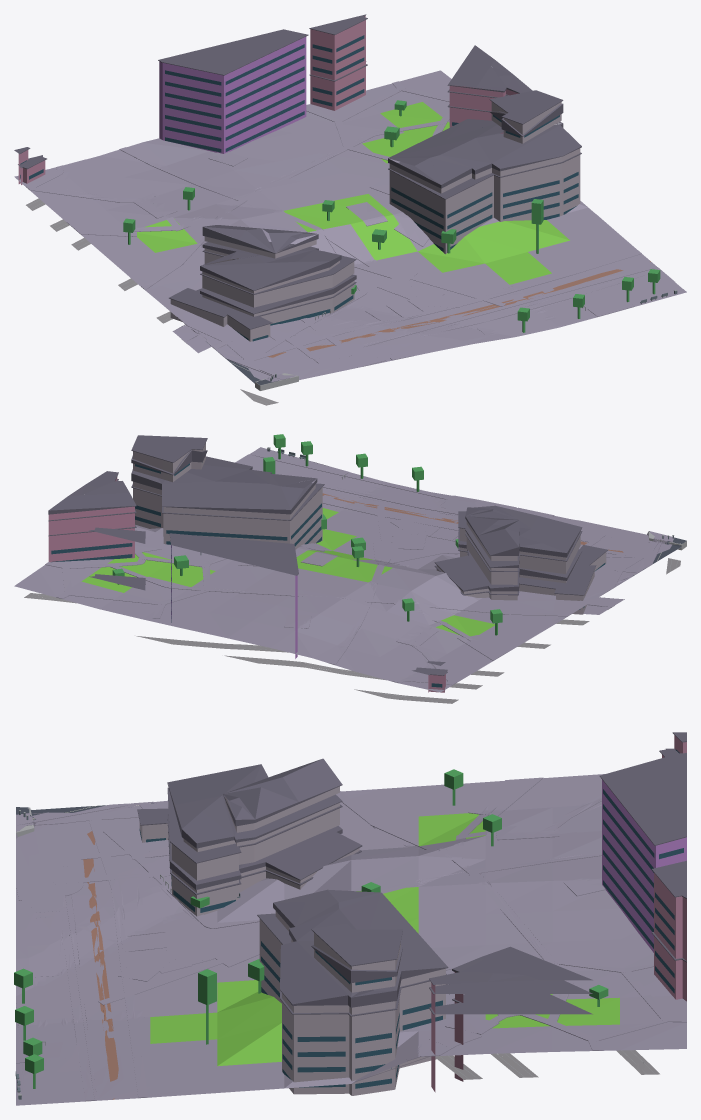
3 views of the same model, one above another, from view 1: azimuth 30°, elevation 25°; view 2: azimuth 150°, elevation 25°; view 3: azimuth 270°, elevation 25° (orthographic). The views are drawn at different scales.
Visible parts, largest first — view 1: compiled-chunk; view 2: compiled-chunk; view 3: compiled-chunk.
Boxes of the visible parts, x1,y1,x2,y2 form: compiled-chunk: [14, 14, 686, 405]; compiled-chunk: [14, 434, 686, 703]; compiled-chunk: [14, 732, 686, 1105].
Size of the model in its own units: 120 by 35.47 by 120.
